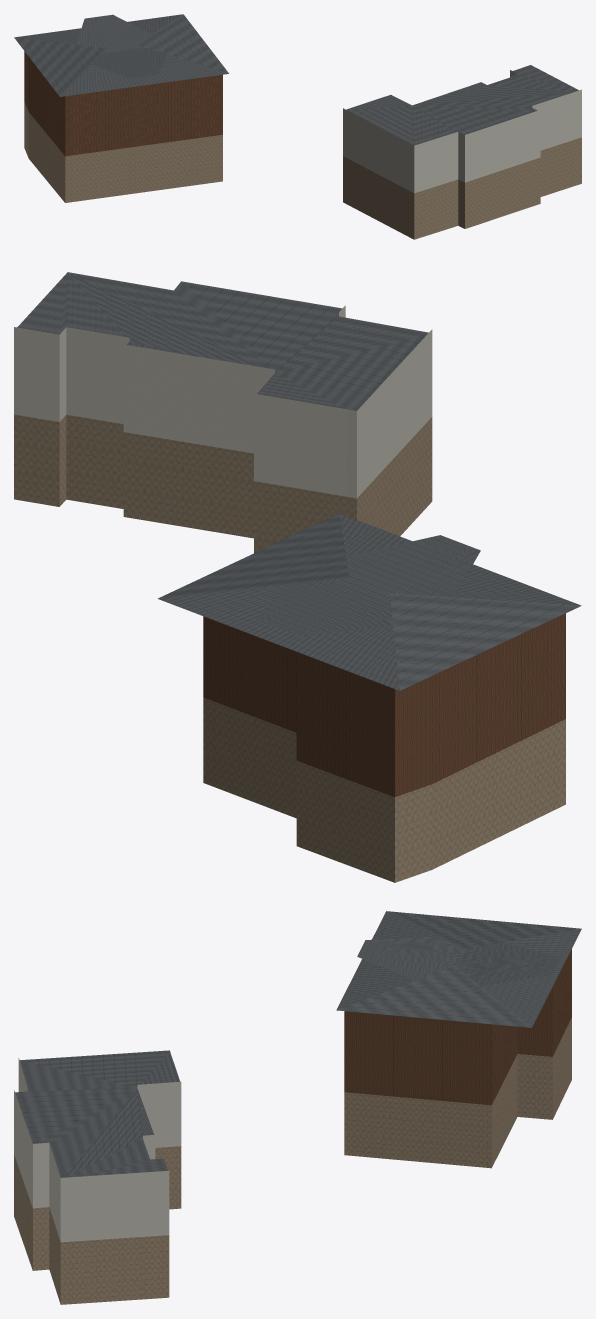
File: bld_c42_45_199.gltf
The picture shows the model from 3 angles, top to bottom: view 1: azimuth 30°, elevation 25°; view 2: azimuth 150°, elevation 25°; view 3: azimuth 270°, elevation 25°; orthographic projection. The views are drawn at different scales.
Parts seen in each view (by area): view 1: bld_c42_45_199; view 2: bld_c42_45_199; view 3: bld_c42_45_199.
Boxes of the visible parts, x1=… form: bld_c42_45_199: x1=14, y1=14, x2=581, y2=239; bld_c42_45_199: x1=14, y1=272, x2=581, y2=882; bld_c42_45_199: x1=14, y1=911, x2=581, y2=1304.
Size of the model in its own units: 45.87 by 12.9 by 41.69.
5 materials, 5 textured.
